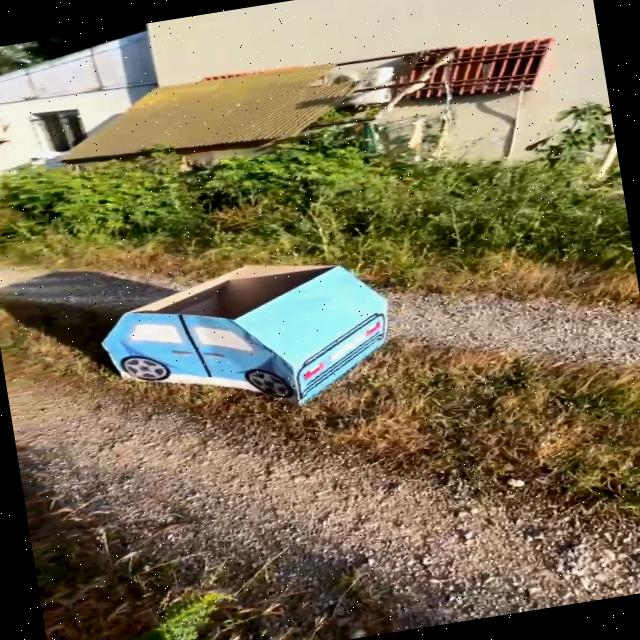blue_car: (43, 213, 428, 458)
